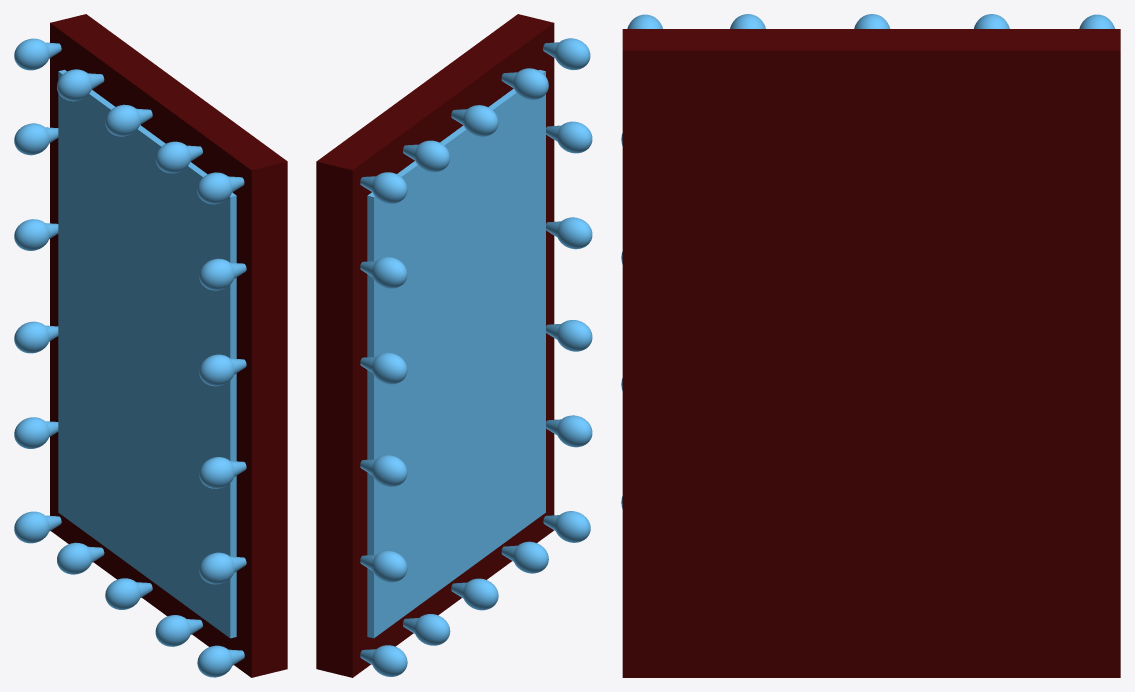
The model's file is Vanity mirror.fbx.
3 renders of one model, left to right at view 1: azimuth 30°, elevation 25°; view 2: azimuth 150°, elevation 25°; view 3: azimuth 270°, elevation 25°, orthographic. The views are drawn at different scales.
Parts seen in each view (by area): view 1: Box045, Box044, Sphere026, Sphere024, Sphere025, Sphere027, Sphere033, Sphere040, Sphere031, Sphere038, Sphere032, Sphere039 (+8 smaller); view 2: Box045, Box044, Sphere030, Sphere036, Sphere027, Sphere029, Sphere025, Sphere033, Sphere034, Sphere035, Sphere026, Sphere041 (+8 smaller); view 3: Box044.
Part boxes in pixels (box(x1,y1,x2,y2)): Box045: box(58, 69, 236, 638); Box044: box(50, 14, 287, 677); Sphere026: box(14, 511, 61, 543); Sphere024: box(197, 172, 244, 204); Sphere025: box(14, 38, 61, 70); Sphere027: box(197, 645, 244, 677); Sphere033: box(155, 141, 202, 173); Sphere040: box(199, 354, 246, 386); Sphere031: box(57, 69, 104, 101); Sphere038: box(199, 552, 246, 584); Sphere032: box(105, 104, 152, 136); Sphere039: box(199, 457, 246, 488); Box045: box(367, 69, 545, 638); Box044: box(316, 14, 554, 677); Sphere030: box(451, 578, 498, 610); Sphere036: box(360, 455, 407, 486); Sphere027: box(543, 511, 590, 542); Sphere029: box(501, 541, 548, 573); Sphere025: box(360, 172, 407, 203); Sphere033: box(501, 68, 548, 99); Sphere034: box(360, 257, 407, 288); Sphere035: box(360, 352, 407, 384); Sphere026: box(360, 645, 407, 676); Sphere041: box(546, 121, 592, 153); Box044: box(622, 29, 1120, 677).
Bounding box in the file's own units: 59.52 × 361 × 261.
